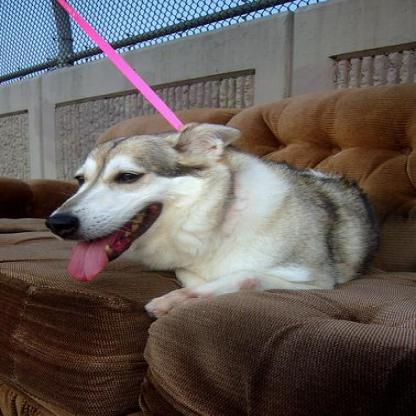Siberian_husky: (45, 121, 375, 318)
